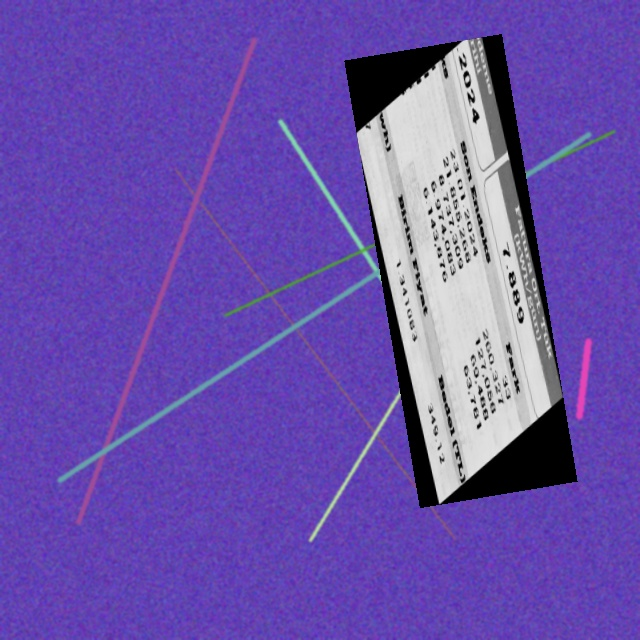electricity-bill: (343, 33, 577, 507)
